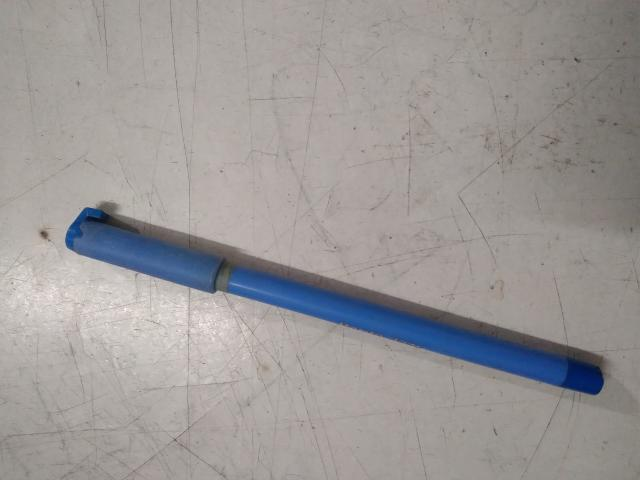PEN: (51, 208, 608, 412)
